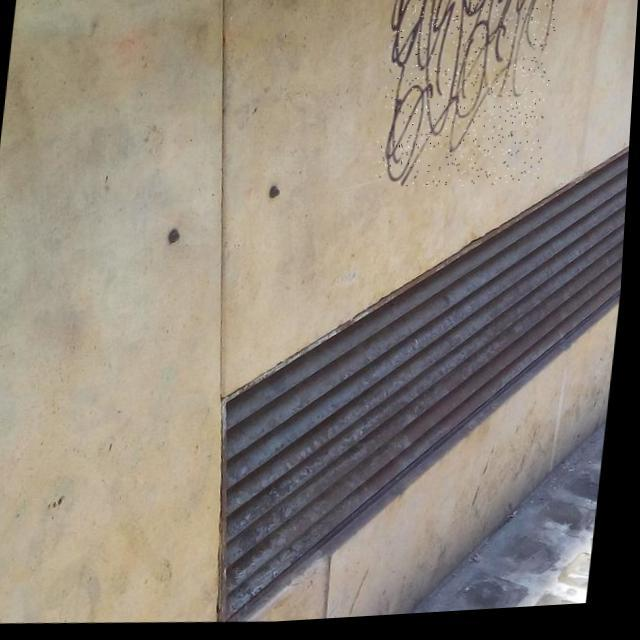-: (374, 0, 562, 200)
